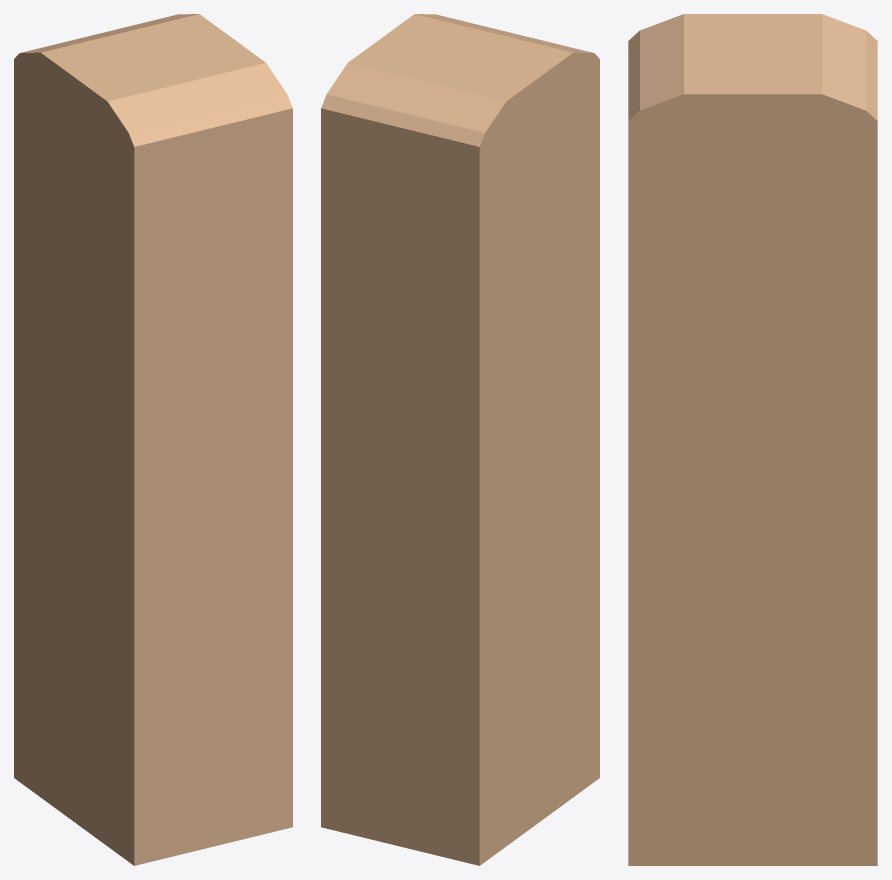
Rendered from Post B.fbx.
The picture shows the model from 3 angles, left to right: view 1: azimuth 30°, elevation 25°; view 2: azimuth 150°, elevation 25°; view 3: azimuth 270°, elevation 25°; orthographic projection. The views are drawn at different scales.
Visible parts, largest first — view 1: Post B; view 2: Post B; view 3: Post B.
Part boxes in pixels (x1,y1,x2,y2): Post B: [14, 14, 292, 865]; Post B: [321, 14, 599, 865]; Post B: [628, 14, 877, 865].
Bounding box in the file's own units: 34.65 × 155 × 45.46.
